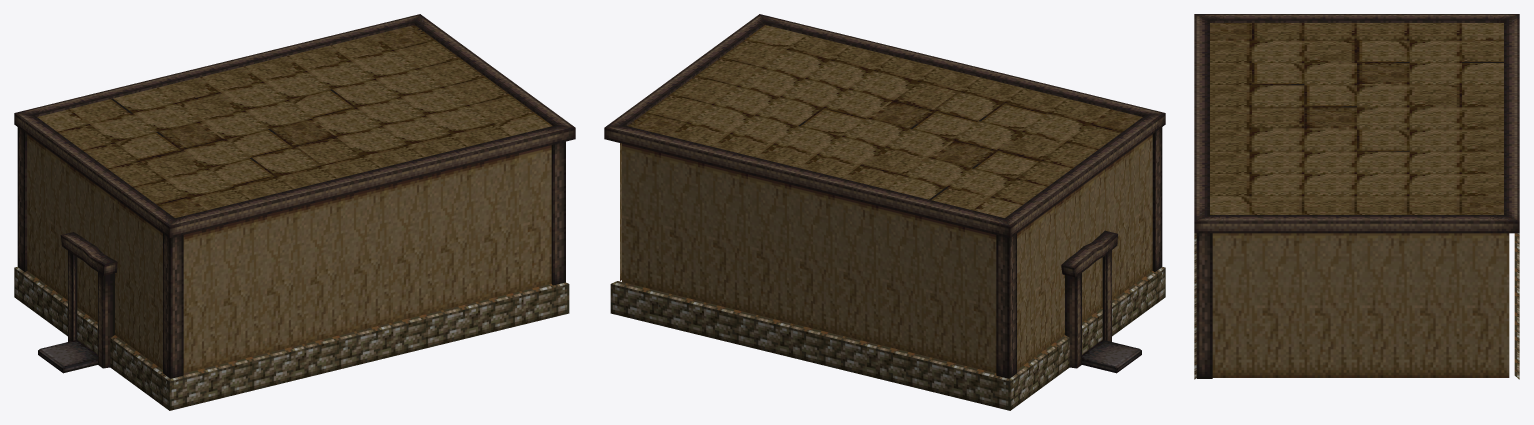
The model's file is EnvBdgMD_Desert_B_Outdoor_A.FBX.
3 renders of one model, left to right at view 1: azimuth 30°, elevation 25°; view 2: azimuth 150°, elevation 25°; view 3: azimuth 270°, elevation 25°, orthographic. The views are drawn at different scales.
Visible parts, largest first — view 1: EnvBdgMD_Desert_B_Outdoor_A; view 2: EnvBdgMD_Desert_B_Outdoor_A; view 3: EnvBdgMD_Desert_B_Outdoor_A.
Part boxes in pixels (left/top/right/bottom): EnvBdgMD_Desert_B_Outdoor_A: left=14, top=14, right=575, bottom=410; EnvBdgMD_Desert_B_Outdoor_A: left=604, top=14, right=1165, bottom=410; EnvBdgMD_Desert_B_Outdoor_A: left=1194, top=14, right=1519, bottom=379.
Size of the model in its own units: 1030 by 405 by 620.
